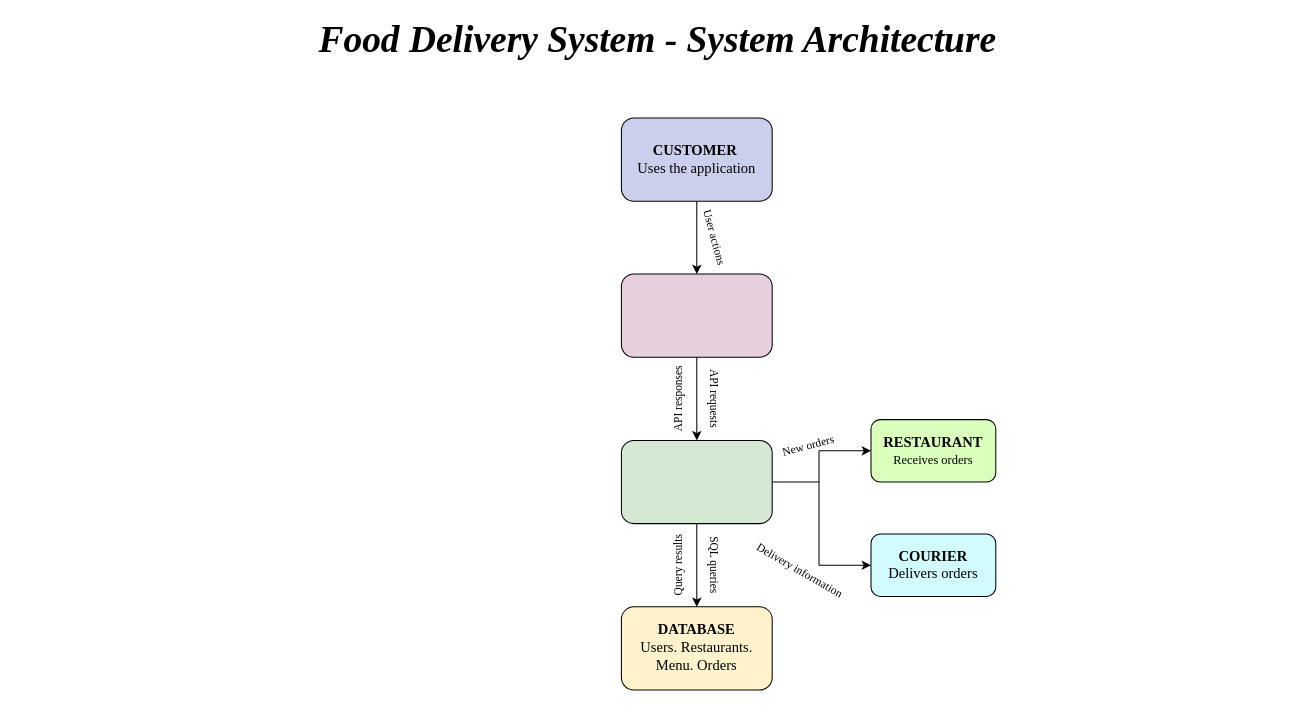
This 1315x708 diagram has some shape labels left out. Here are the shapes that lost their labels. From the top down, the box of each, then its label:
(620, 273, 772, 357): FRONTEND Main page. Registration. Menu. Shopping Cart
(620, 439, 772, 524): BACKEND API Endpoints. Authentication. Order Processing
